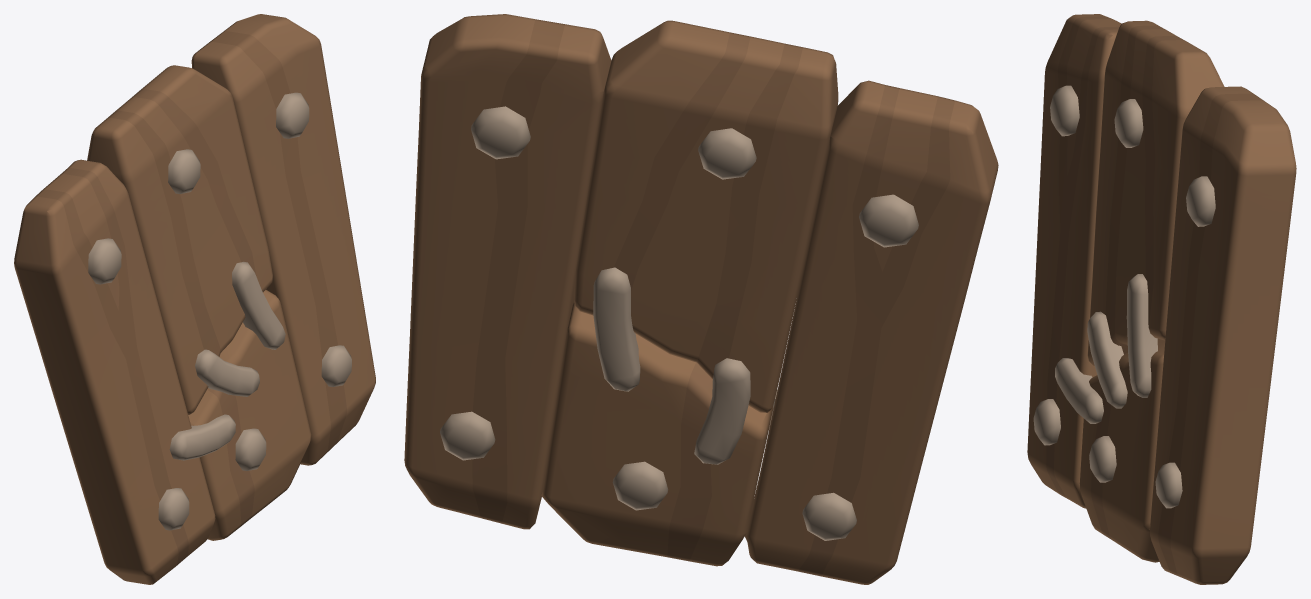
3 views of the same model, side by side, from view 1: azimuth 30°, elevation 25°; view 2: azimuth 150°, elevation 25°; view 3: azimuth 270°, elevation 25° (orthographic). The views are drawn at different scales.
Parts seen in each view (by area): view 1: model_1.047; view 2: model_1.047; view 3: model_1.047.
Boxes of the visible parts, left/top/right/bottom form: model_1.047: left=14, top=14, right=375, bottom=584; model_1.047: left=404, top=14, right=998, bottom=584; model_1.047: left=1027, top=14, right=1296, bottom=584.
Size of the model in its own units: 3.81 by 4.04 by 2.01.
